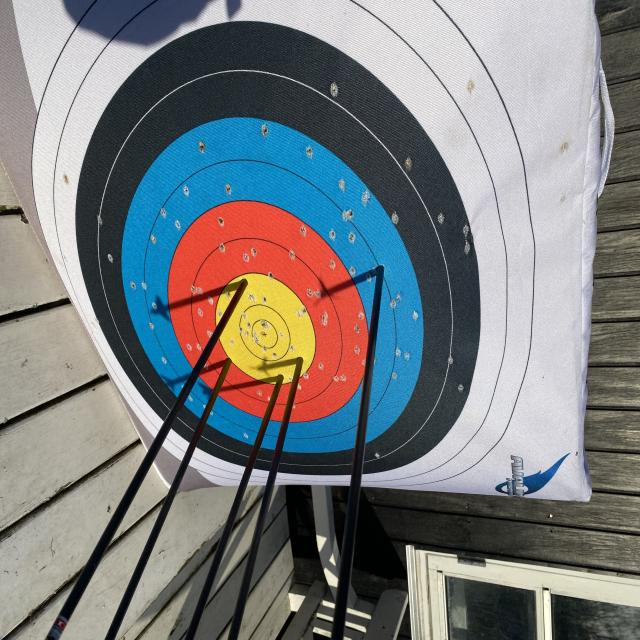Arrow_Blue: (368, 251, 401, 289)
Arrow_Red: (216, 345, 236, 376)
Arrow_Yellow: (225, 266, 252, 300), (270, 354, 290, 394), (293, 342, 311, 379)
